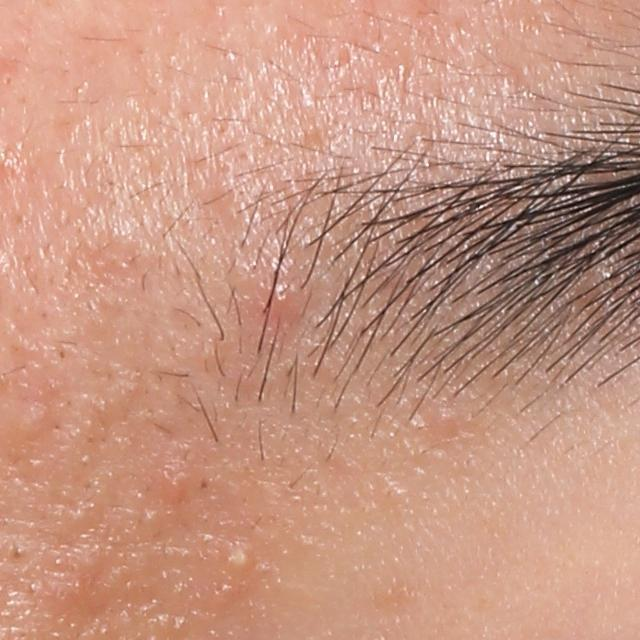comedo: (427, 403, 458, 439)
papule: (255, 261, 305, 328)
